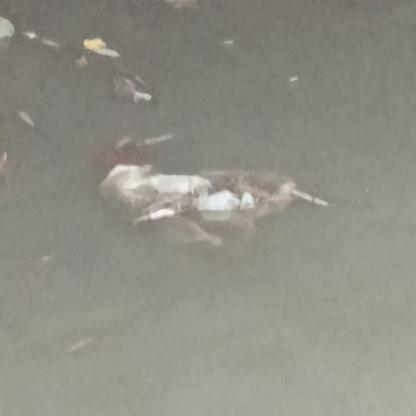plastic bag: (98, 160, 307, 226)
